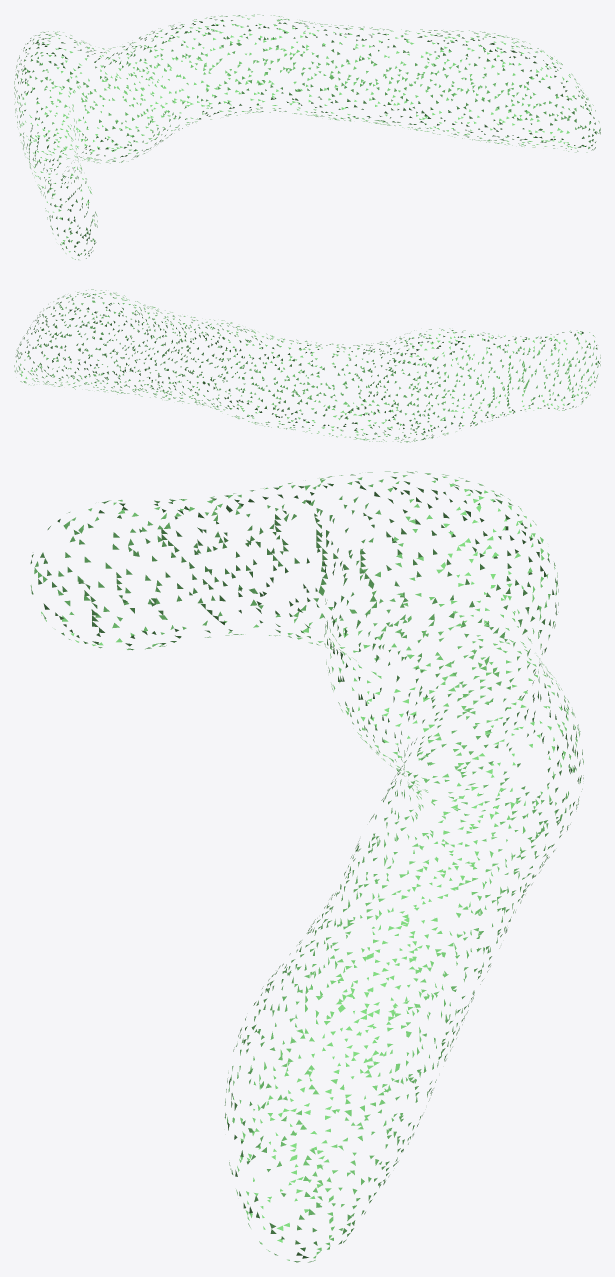
The model's file is morph_017.glb.
3 views of the same model, one above another, from view 1: azimuth 30°, elevation 25°; view 2: azimuth 150°, elevation 25°; view 3: azimuth 270°, elevation 25° (orthographic). The views are drawn at different scales.
Size of the model in its own units: 128 by 42.34 by 59.03.
